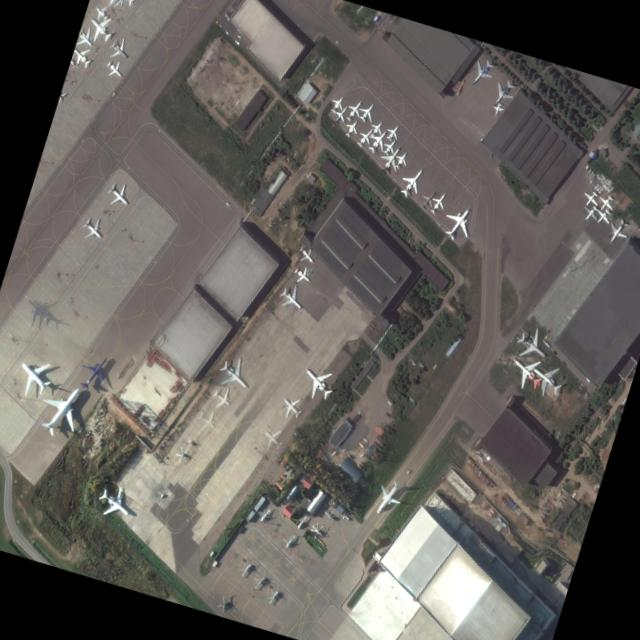plane: (31, 372, 93, 446), (9, 347, 57, 405), (295, 356, 340, 407), (72, 347, 116, 399), (93, 479, 137, 529), (505, 346, 548, 397), (523, 354, 567, 403), (213, 351, 256, 401), (437, 197, 479, 247), (511, 322, 554, 370), (17, 287, 58, 335), (367, 474, 407, 521), (82, 6, 118, 48), (373, 138, 407, 180), (394, 161, 428, 202), (275, 280, 308, 319), (465, 54, 497, 92), (486, 75, 518, 112), (102, 178, 134, 214), (601, 214, 632, 249), (78, 213, 108, 248), (257, 422, 287, 456), (276, 390, 306, 424), (104, 33, 133, 67), (363, 124, 392, 158), (192, 404, 221, 438), (208, 382, 236, 416), (341, 95, 367, 125), (354, 97, 380, 127), (426, 187, 451, 218), (102, 56, 128, 84), (290, 262, 315, 290), (328, 101, 352, 129), (353, 123, 377, 151), (294, 242, 318, 269), (251, 502, 275, 529), (578, 202, 601, 227), (593, 191, 616, 216), (417, 186, 439, 212), (579, 187, 601, 211), (591, 205, 613, 229), (341, 116, 362, 141), (382, 120, 403, 145), (390, 148, 411, 172), (379, 135, 400, 159), (365, 117, 386, 141), (327, 91, 347, 116), (90, 1, 111, 24), (490, 100, 504, 117), (115, 0, 133, 11), (105, 0, 121, 9)
small-vehicle: (236, 34, 242, 40), (234, 40, 240, 46), (585, 377, 590, 383), (405, 469, 410, 474), (224, 30, 229, 35), (159, 493, 163, 499), (225, 201, 229, 207), (599, 126, 603, 131), (593, 133, 597, 138), (489, 153, 493, 158), (613, 167, 617, 171), (609, 162, 613, 166), (607, 160, 611, 164), (605, 157, 608, 162), (612, 165, 615, 169), (606, 159, 609, 163), (611, 164, 614, 167)
